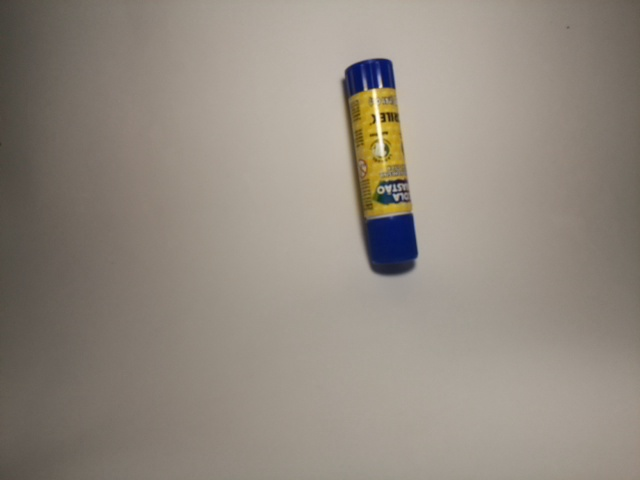Cola: (342, 58, 420, 276)
